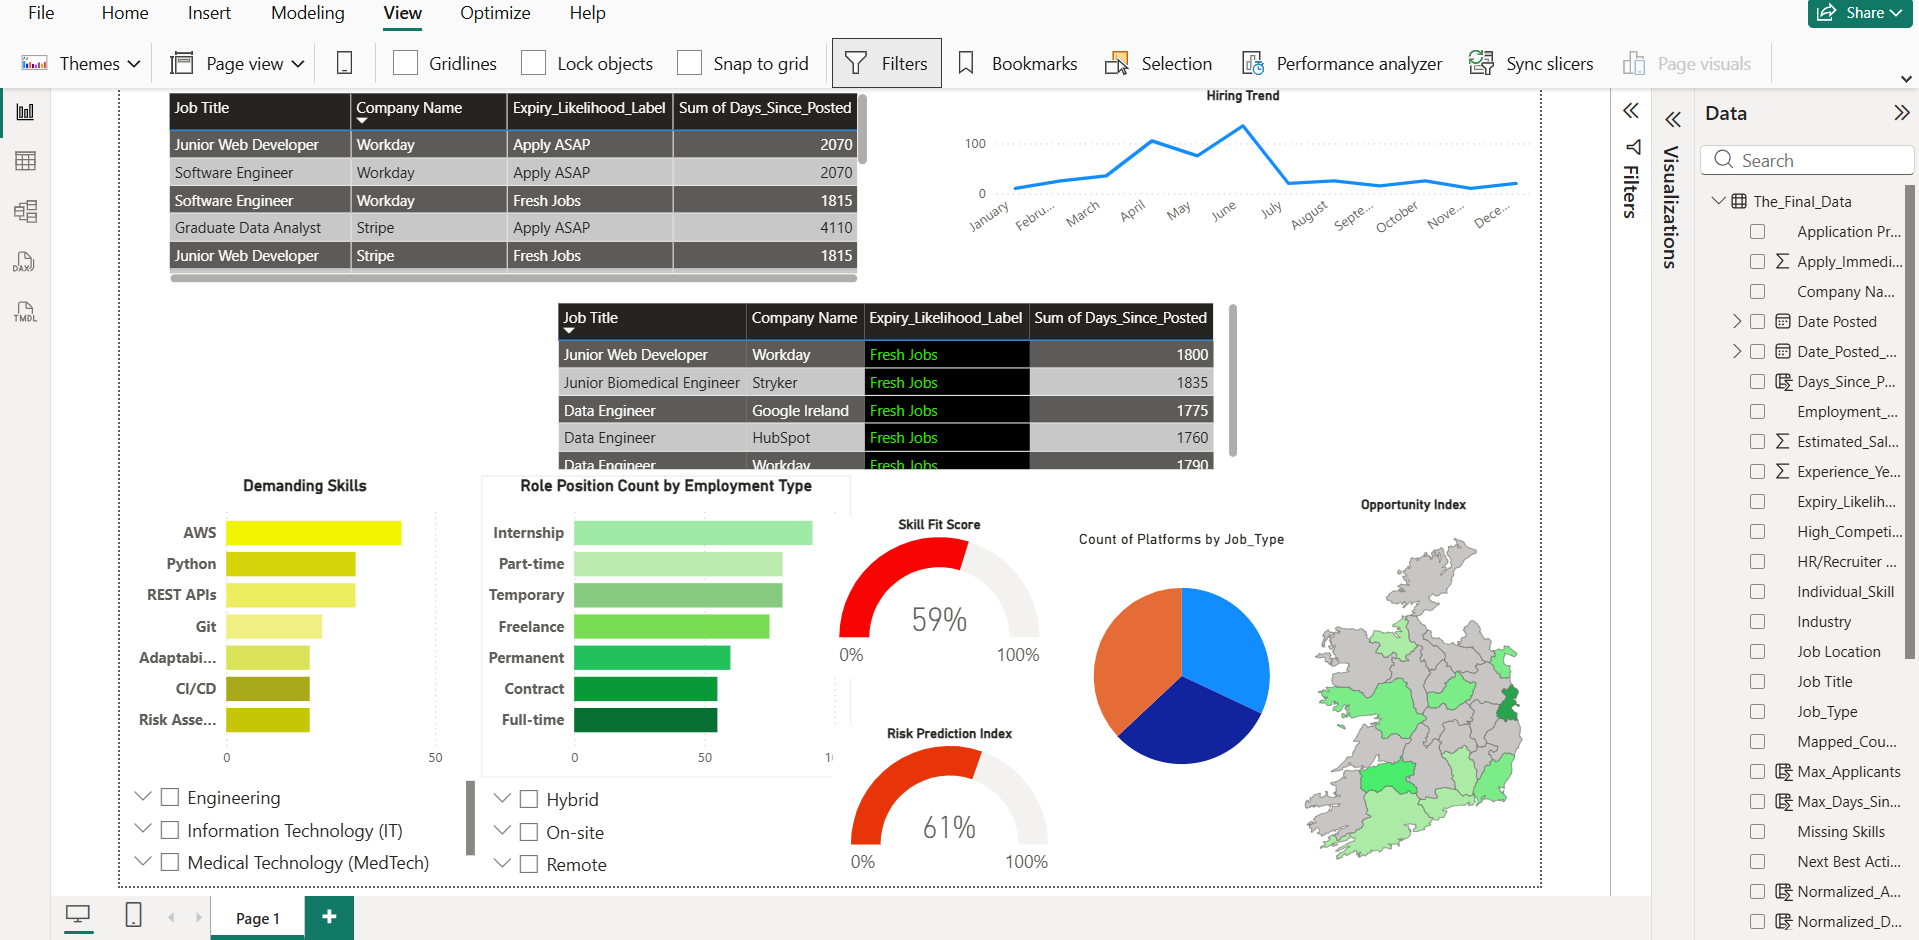

The page's visual inventory and layout, read from the dashboard file:
{"tool":"powerbi","page":{"name":"Page 1","canvas":[1280,720],"ordinal":0},"visuals":[{"type":"shapeMap","title":"Opportunity Index","fields":{"Category":["The_Final_Data.Mapped_County"]},"box":[1052.5,369.1,227.8,351.3],"z":0},{"type":"clusteredBarChart","title":"Demanding Skills","fields":{"Category":["The_Final_Data.Individual_Skill"],"Y":["CountNonNull(The_Final_Data.Individual_Skill)"]},"box":[0,349.4,333.8,272.6],"z":1000},{"type":"slicer","fields":{"Values":["The_Final_Data.Industry","The_Final_Data.Job Title"]},"box":[0,620.2,325.2,98.8],"z":2000},{"type":"lineChart","title":"Hiring Trend","fields":{"Category":["The_Final_Data.Date_Posted_Cleaned.Variation.Date Hierarchy.Month"],"Y":["CountNonNull(The_Final_Data.Job Title)"]},"box":[744.5,0,535.5,145.3],"z":3000},{"type":"barChart","title":"Role Position Count by Employment Type","fields":{"Series":["The_Final_Data.Employment_Type"],"Y":["CountNonNull(The_Final_Data.Role_Position)"],"Category":["The_Final_Data.Employment_Type"]},"box":[325.4,349.4,333.8,272.6],"z":4000},{"type":"gauge","title":"Skill Fit Score","fields":{"Y":["Avg(The_Final_Data.Skill_Fit_Score)"]},"box":[624.4,387,229.2,145.5],"z":5000},{"type":"gauge","title":"Risk Prediction Index","fields":{"Y":["Avg(The_Final_Data.Risk_Prediction_Score)"]},"box":[642.2,575,211.3,144.1],"z":6000},{"type":"tableEx","fields":{"Values":["The_Final_Data.Job Title","The_Final_Data.Company Name","The_Final_Data.Expiry_Likelihood_Label","Sum(The_Final_Data.Days_Since_Posted)"]},"box":[38.4,0,640.7,181.4],"z":7000},{"type":"tableEx","fields":{"Values":["The_Final_Data.Job Title","The_Final_Data.Company Name","The_Final_Data.Expiry_Likelihood_Label","Sum(The_Final_Data.Days_Since_Posted)"]},"box":[388.4,189.5,624.4,159.3],"z":8000},{"type":"slicer","fields":{"Values":["The_Final_Data.Job_Type","The_Final_Data.Job Location"]},"box":[323.8,621.6,129,98.8],"z":9000},{"type":"pieChart","fields":{"Series":["The_Final_Data.Job_Type"],"Y":["CountNonNull(The_Final_Data.Platforms)"]},"box":[853.5,399.3,208.6,248.4],"z":13000}]}

Visuals, with their boxes on the page's 1280x720 design canvas (x1, y1, x2, y2). These are canvas units, not pixel positions in the 1919x940 screenshot, which may show the page scaled, cropped or inside an application window:
"Opportunity Index" shapeMap: {"left": 1052, "top": 369, "right": 1280, "bottom": 720}
"Demanding Skills" clusteredBarChart: {"left": 0, "top": 349, "right": 334, "bottom": 622}
slicer - The_Final_Data.Industry x The_Final_Data.Job Title: {"left": 0, "top": 620, "right": 325, "bottom": 719}
"Hiring Trend" lineChart: {"left": 744, "top": 0, "right": 1280, "bottom": 145}
"Role Position Count by Employment Type" barChart: {"left": 325, "top": 349, "right": 659, "bottom": 622}
"Skill Fit Score" gauge: {"left": 624, "top": 387, "right": 854, "bottom": 532}
"Risk Prediction Index" gauge: {"left": 642, "top": 575, "right": 854, "bottom": 719}
tableEx - The_Final_Data.Job Title x The_Final_Data.Company Name: {"left": 38, "top": 0, "right": 679, "bottom": 181}
tableEx - The_Final_Data.Job Title x The_Final_Data.Company Name: {"left": 388, "top": 190, "right": 1013, "bottom": 349}
slicer - The_Final_Data.Job_Type x The_Final_Data.Job Location: {"left": 324, "top": 622, "right": 453, "bottom": 720}
pieChart - The_Final_Data.Job_Type x CountNonNull(The_Final_Data.Platforms): {"left": 854, "top": 399, "right": 1062, "bottom": 648}
